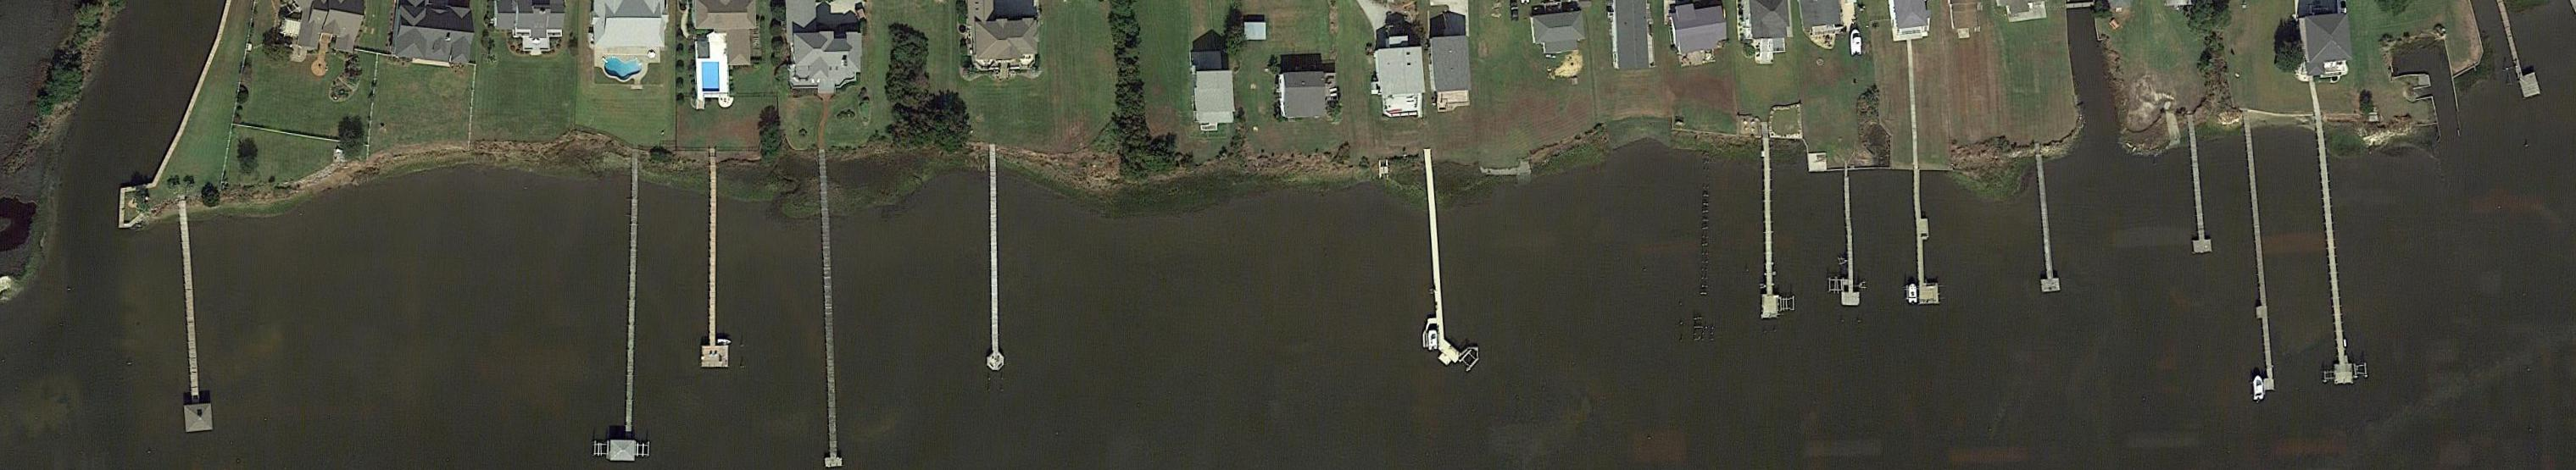harbor: (2308, 113, 2354, 385), (2238, 123, 2275, 393), (608, 173, 642, 462), (813, 156, 843, 468), (173, 215, 214, 432), (1424, 156, 1464, 368), (703, 168, 729, 368), (984, 150, 1005, 371), (2029, 154, 2060, 294), (1756, 138, 1779, 320), (2499, 3, 2541, 100), (2183, 127, 2213, 255), (1914, 169, 1940, 306), (1838, 174, 1861, 306)
ship: (2251, 375, 2265, 401), (1850, 30, 1863, 58), (1907, 283, 1919, 306), (1428, 330, 1439, 352)
